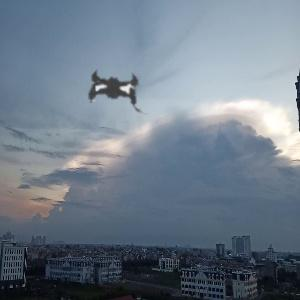drone: (48, 24, 176, 152)
